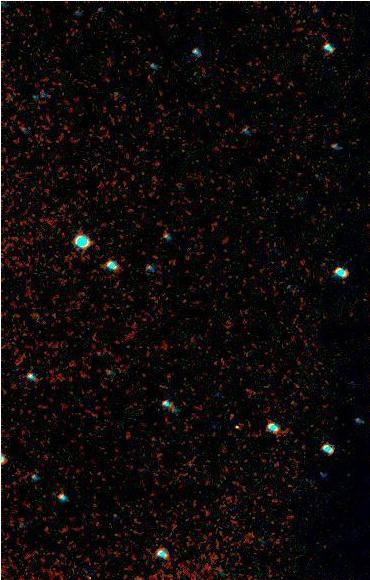star: (226, 417, 256, 447)
